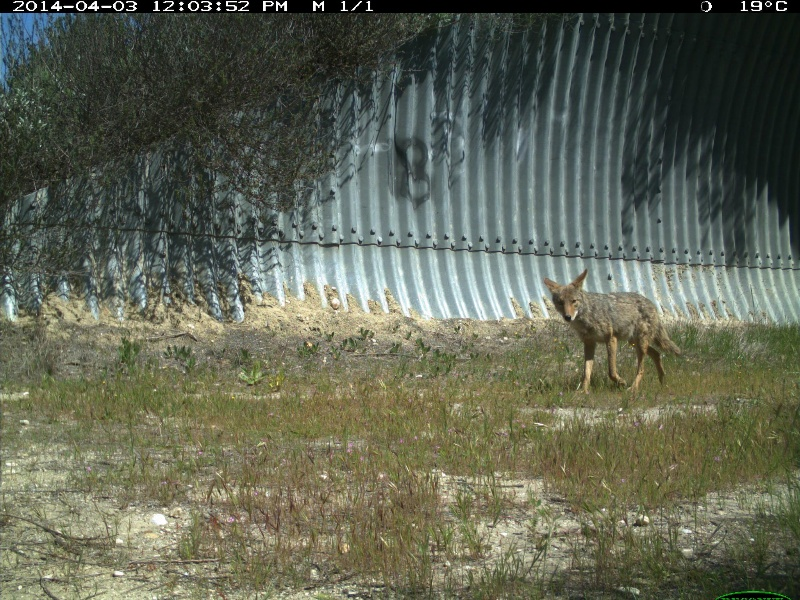coyote: (544, 270, 687, 391)
